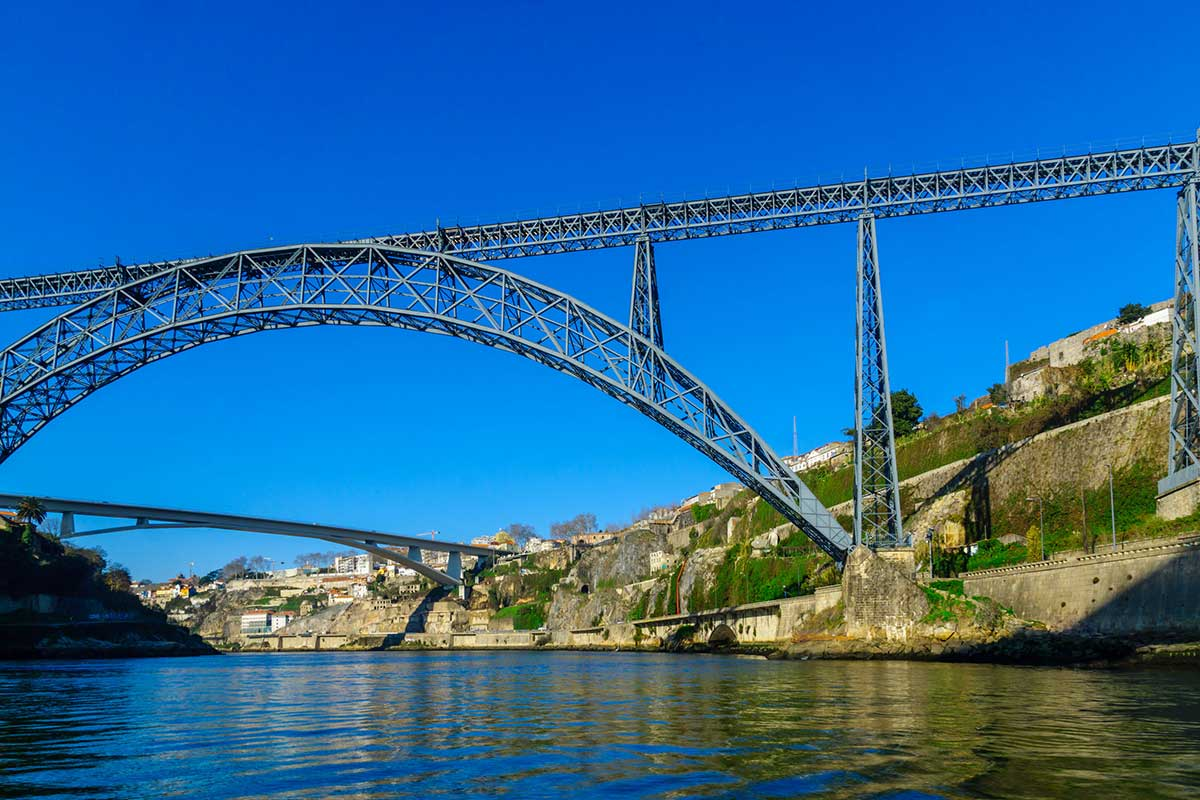bridge: (5, 144, 1200, 556), (3, 491, 517, 601), (632, 601, 783, 652)
